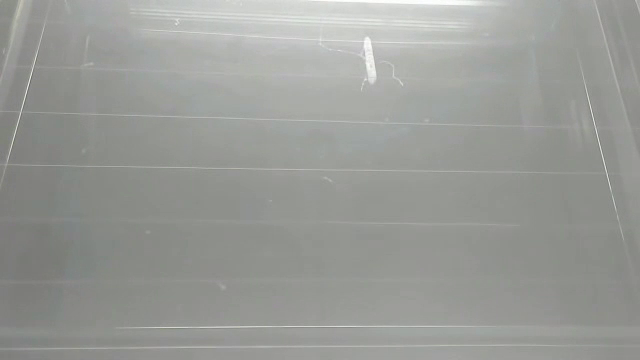alpha: (360, 34, 381, 86)
